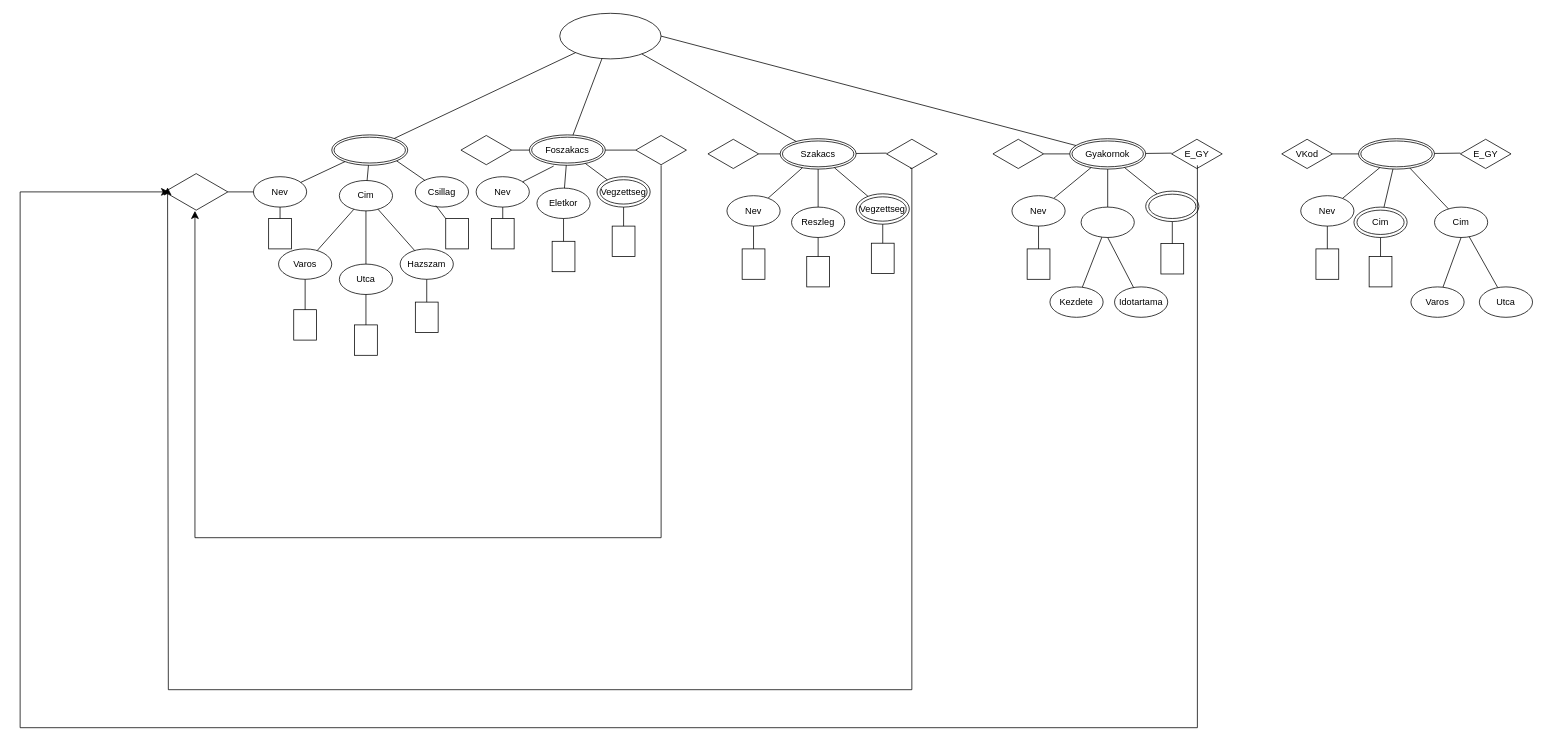
This 1546x749 diagram has some shape labels left out. The shapes that lost their labels are listed below. From the top down, each one's centre as x and y in pixels, then its label:
At pixel 610 36: "JTUBQH_Vendegltats".
At pixel 369 149: "Etterem".
At pixel 486 149: "FKod".
At pixel 660 149: "E_F".
At pixel 733 153: "SzKod".
At pixel 911 153: "E_SZ".
At pixel 1018 153: "GyKod".
At pixel 1396 153: "Vendeg".
At pixel 196 191: "EKod".
At pixel 1172 206: "Muszak".
At pixel 1107 222: "Gyakorlat".
